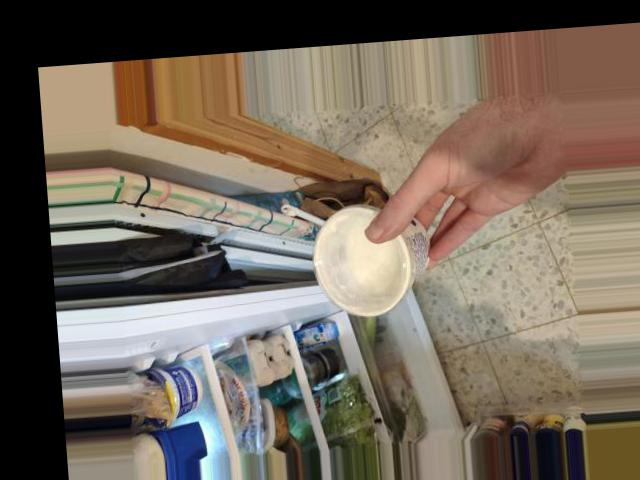cotage: (304, 195, 433, 300)
